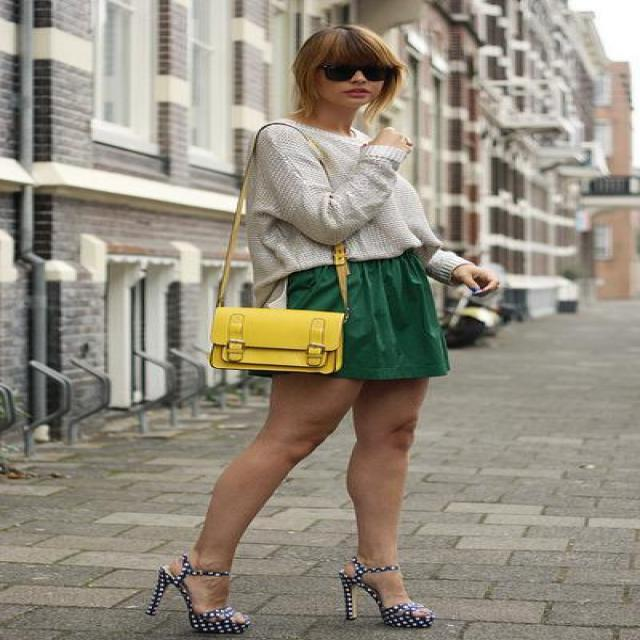bag: (182, 251, 354, 372)
jacket: (212, 119, 454, 308)
shoe: (152, 568, 432, 630)
skirt: (274, 247, 451, 381)
sunglass: (328, 44, 397, 88)
